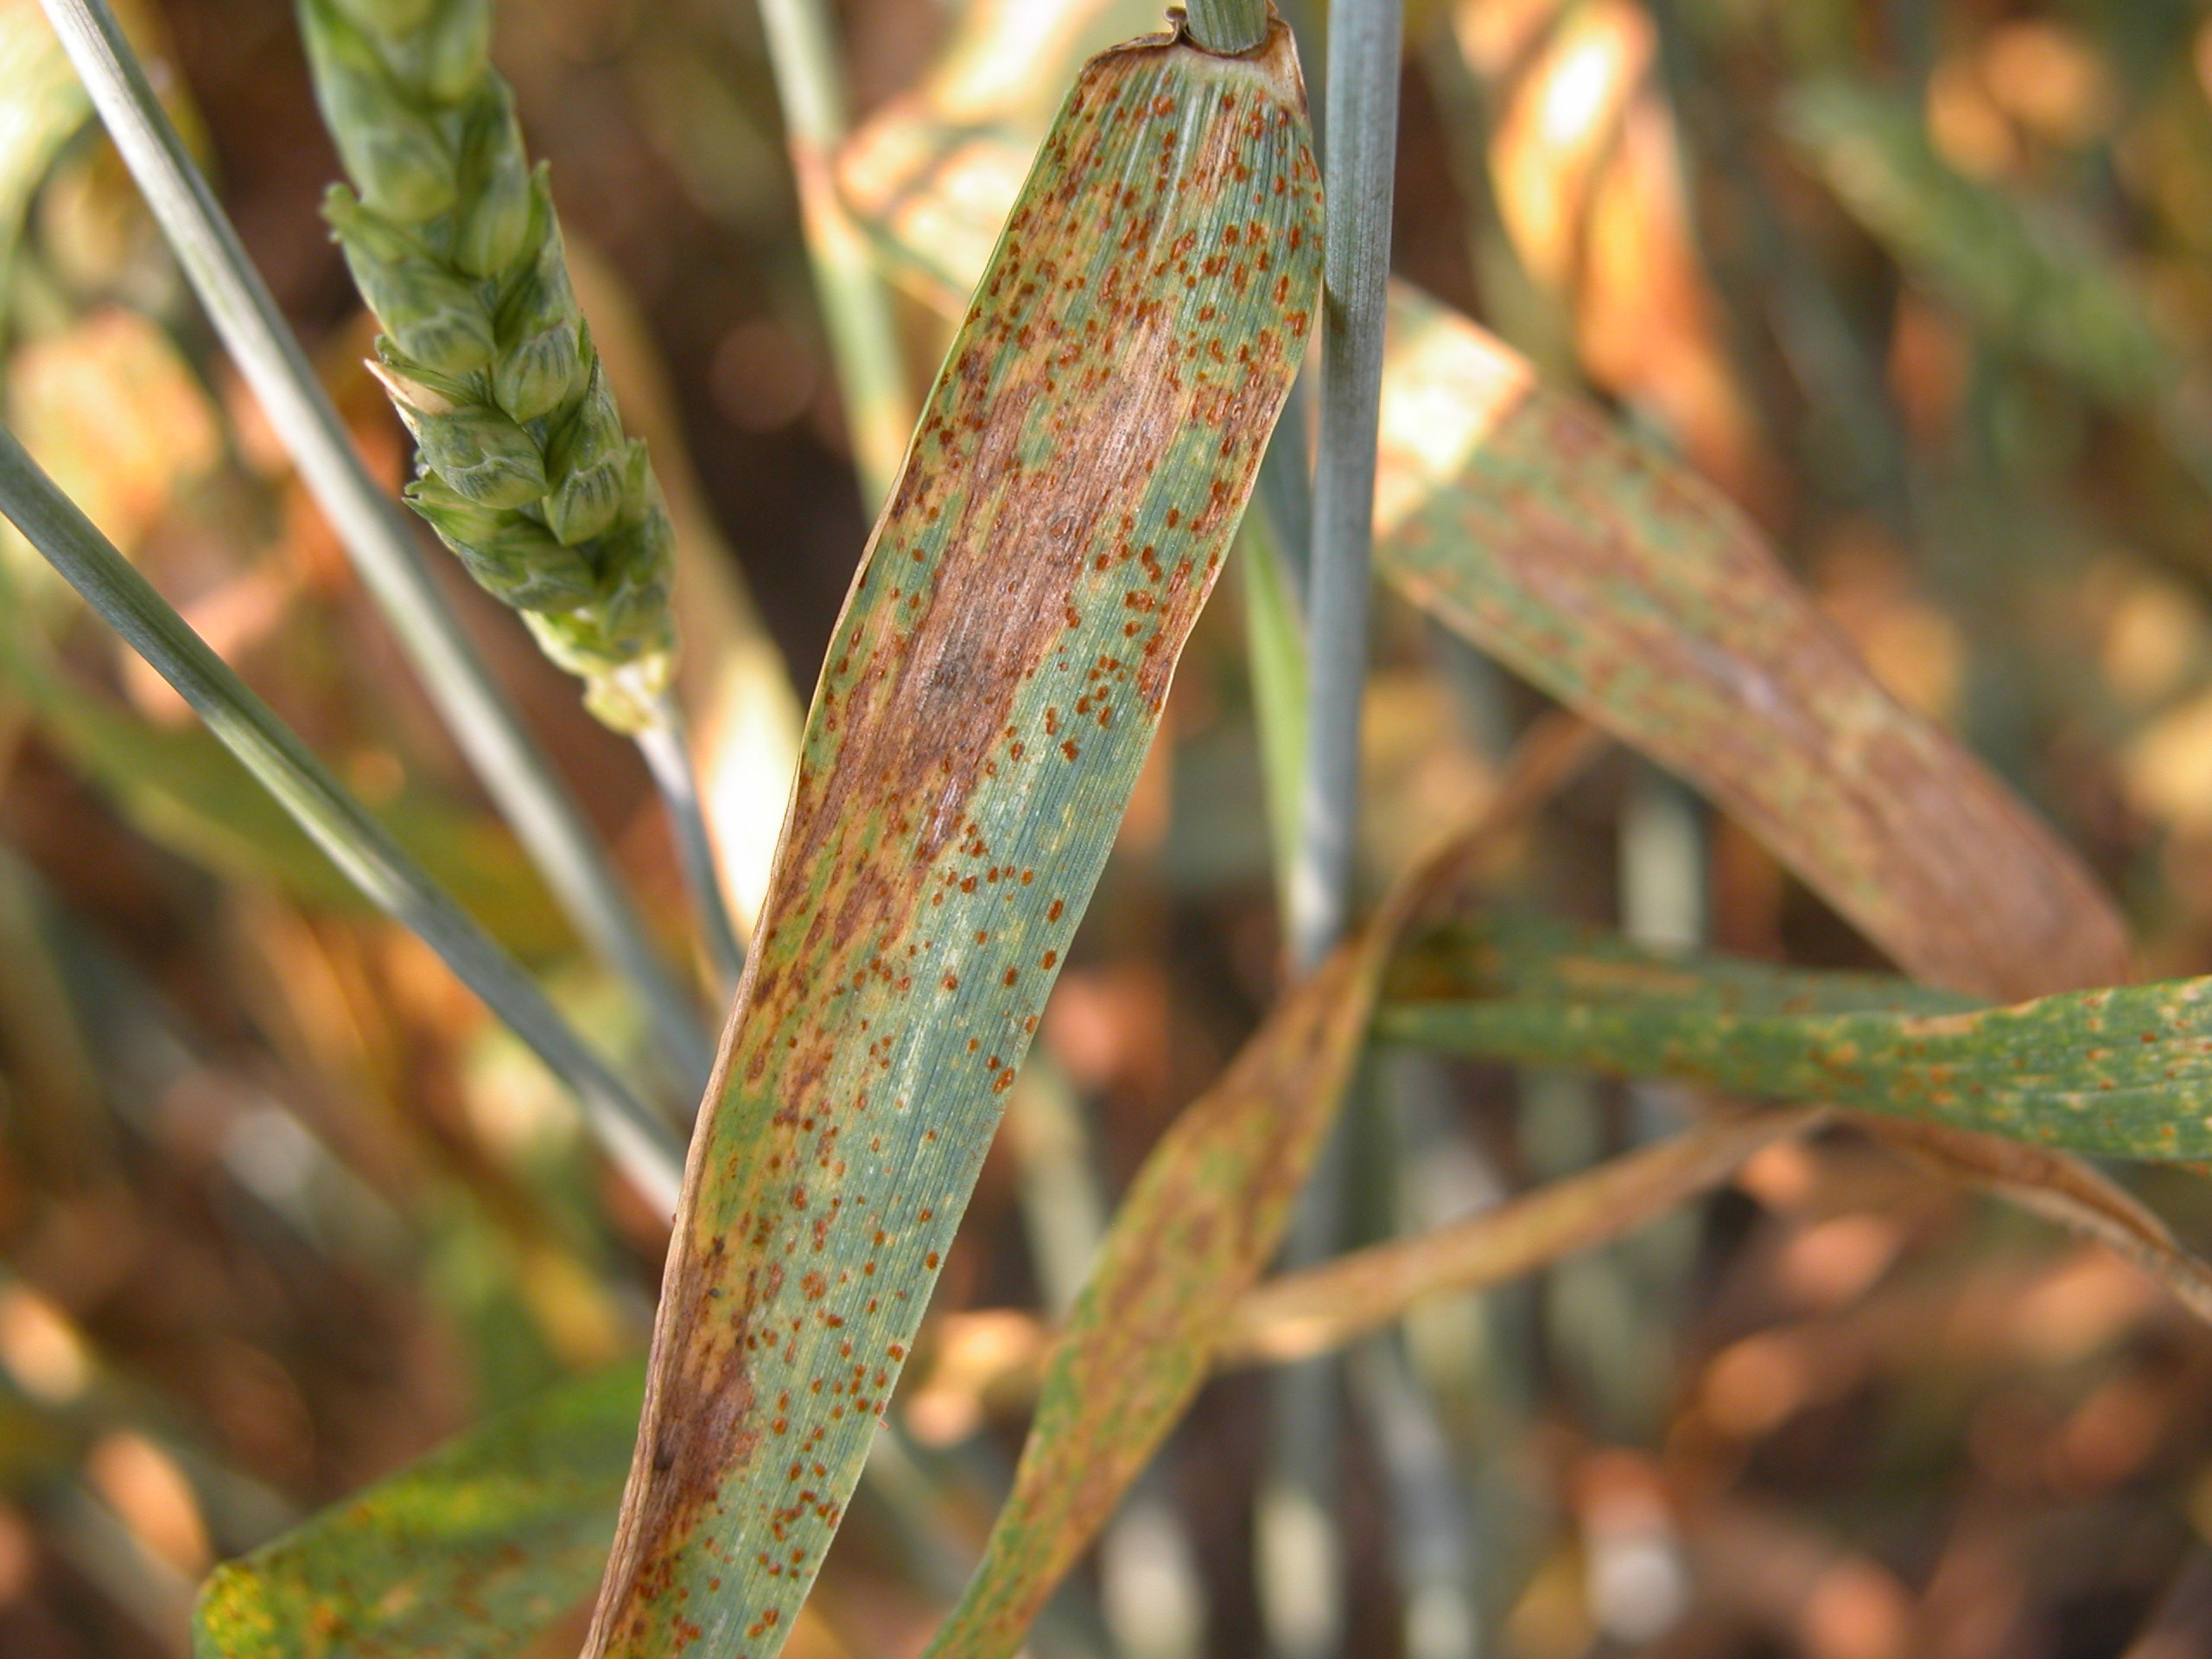Leaf Rust: (700, 125, 1313, 1413)
